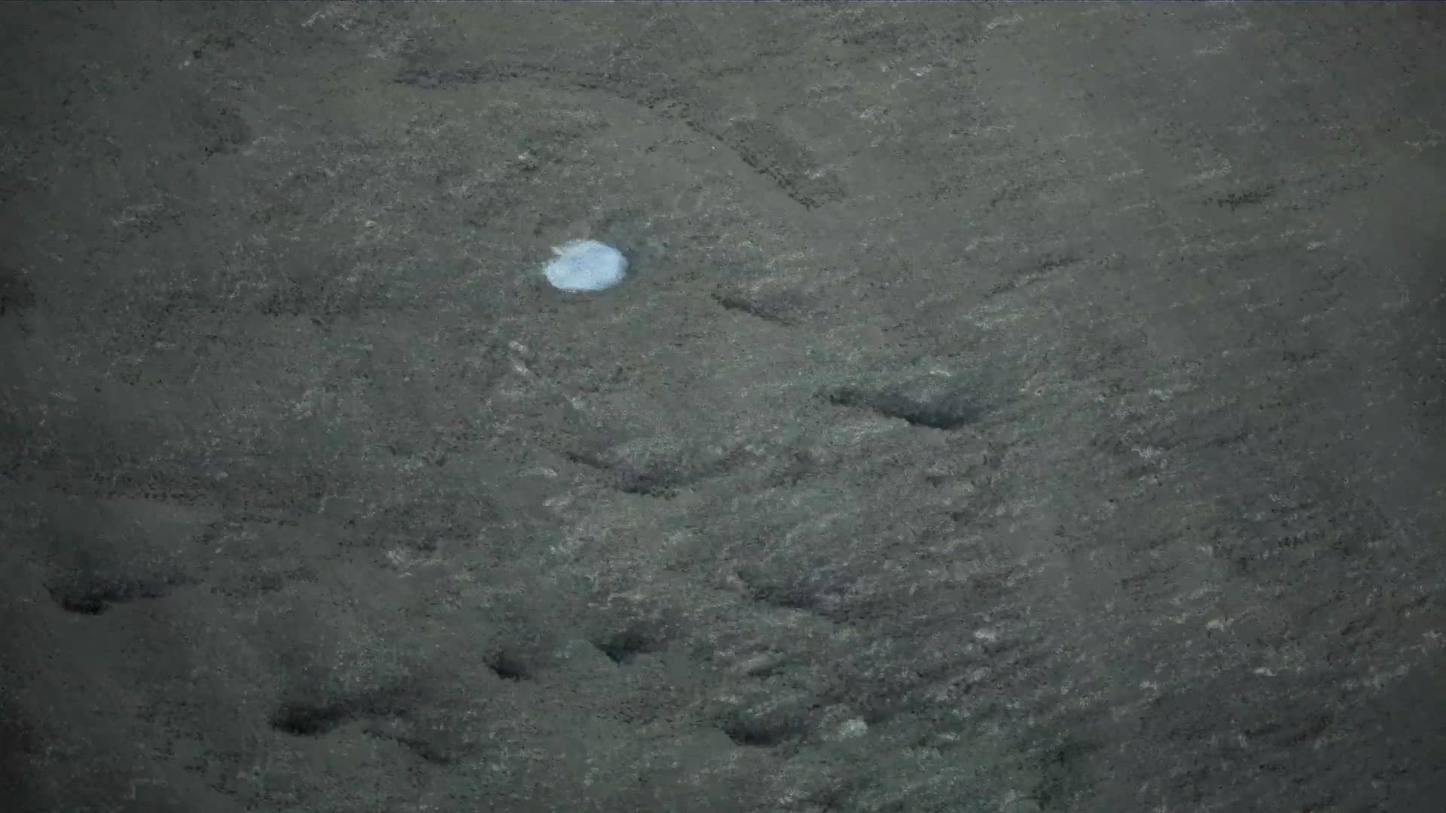Target: (538, 239, 632, 299)
